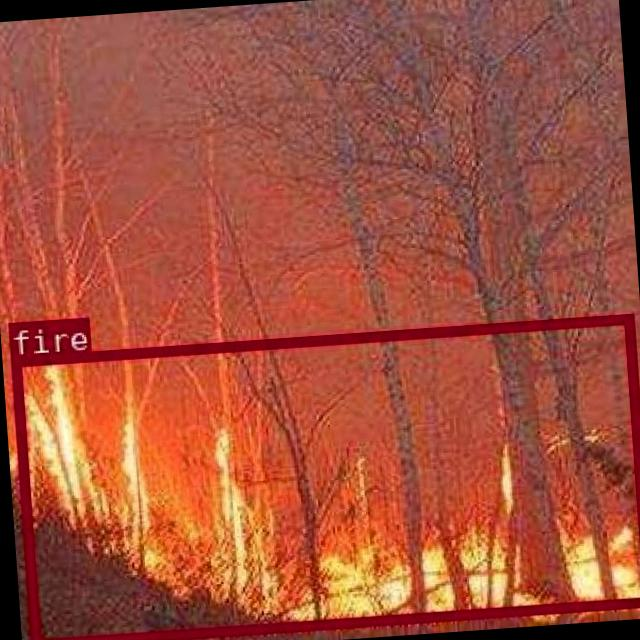fire: (8, 311, 640, 640)
